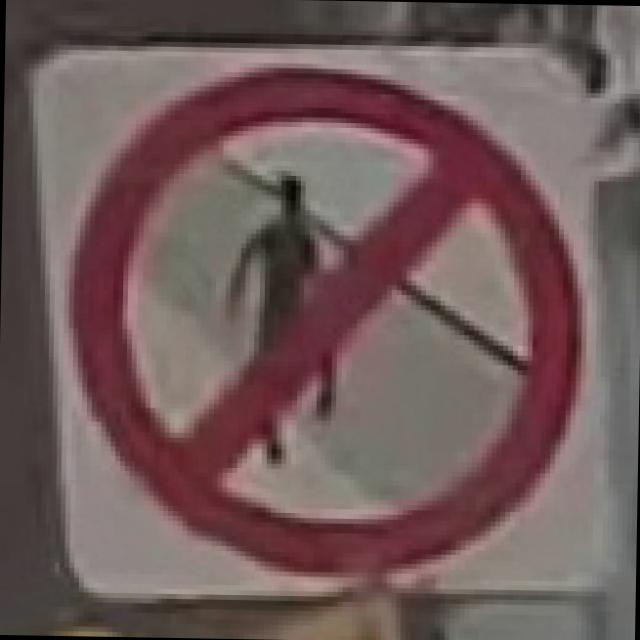nojaywalking_sign: (14, 34, 606, 606)
